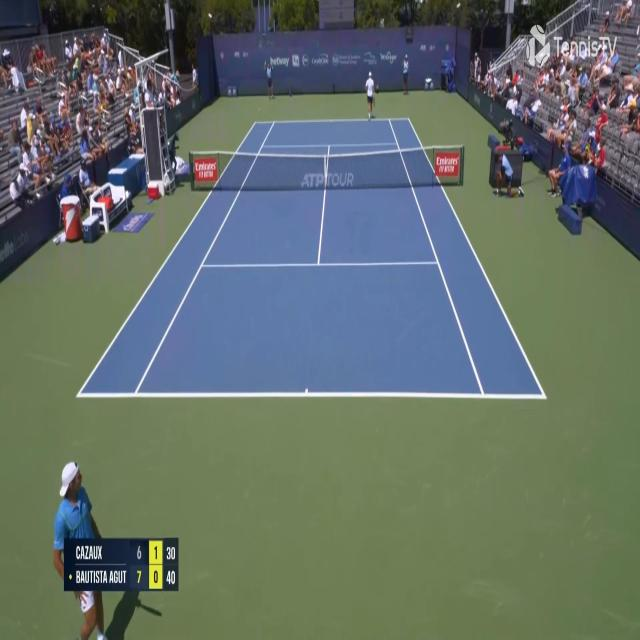tennis-player: (51, 456, 104, 640), (364, 70, 379, 121)
